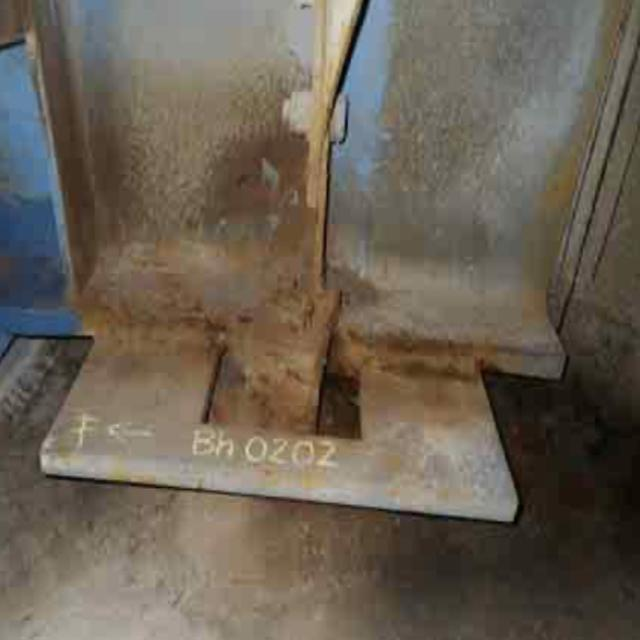corrosion: (46, 87, 570, 532)
